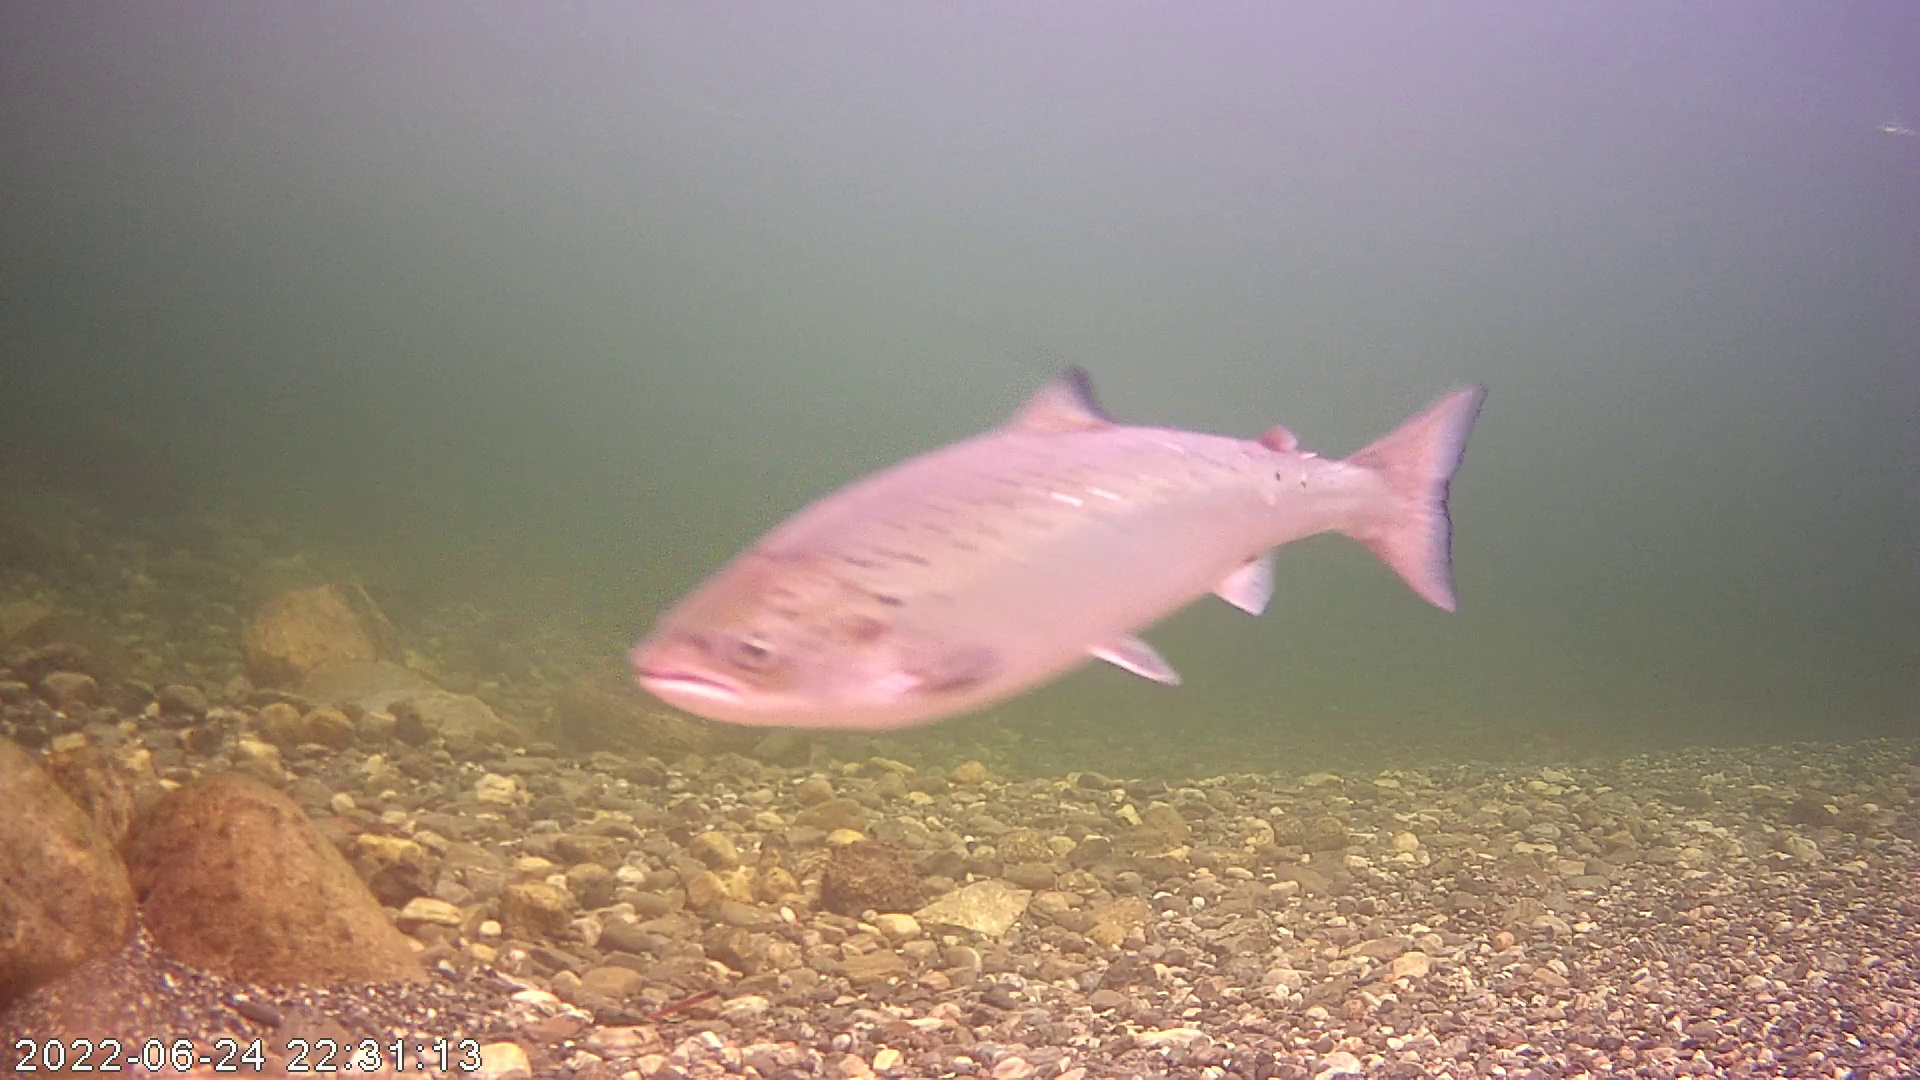salmon: (625, 359, 1493, 733)
